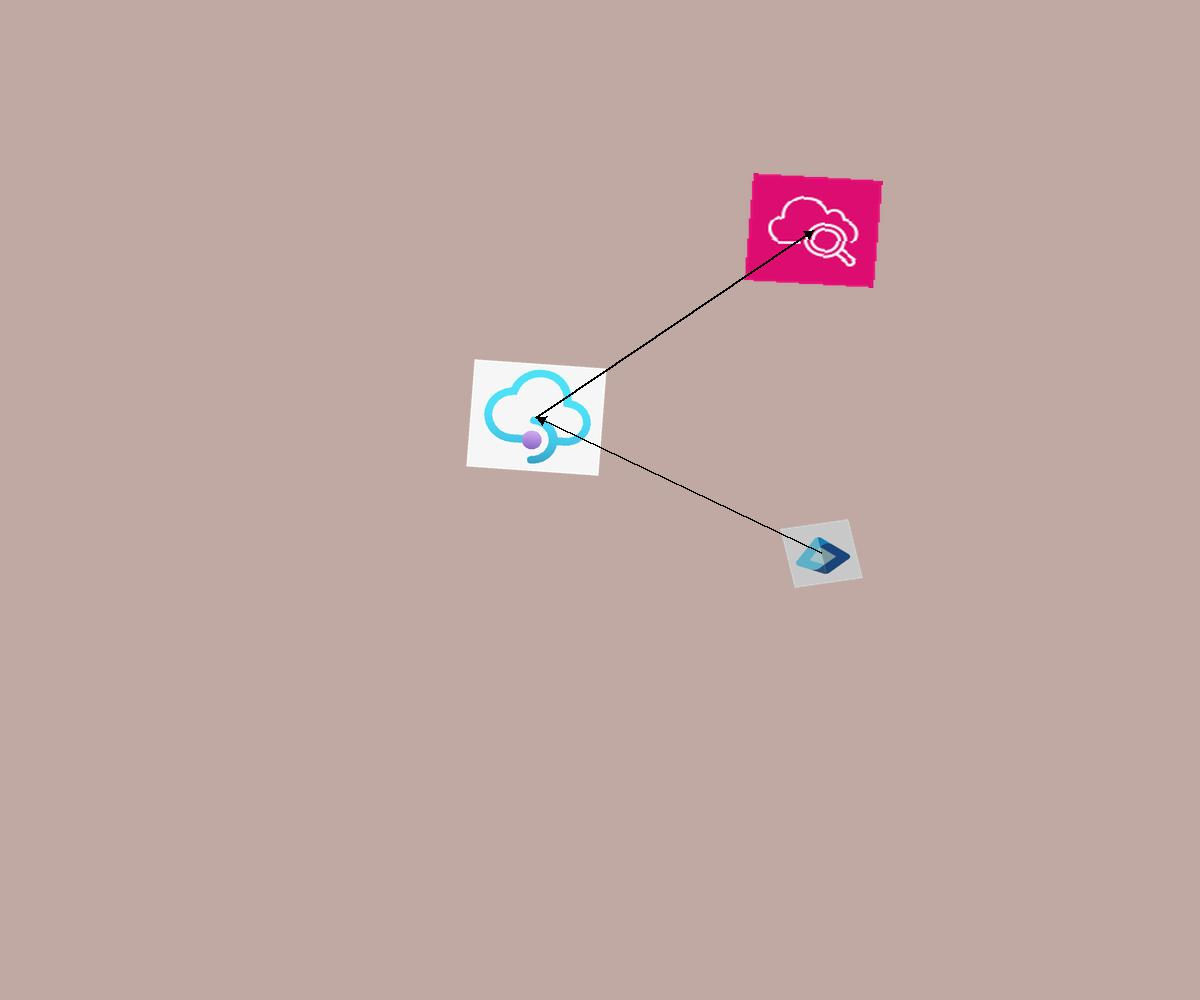AWS-CloudWatch: (744, 173, 883, 288)
Azure_api_gateway: (466, 359, 607, 476)
Azure_microsoft_entra: (780, 519, 863, 588)
